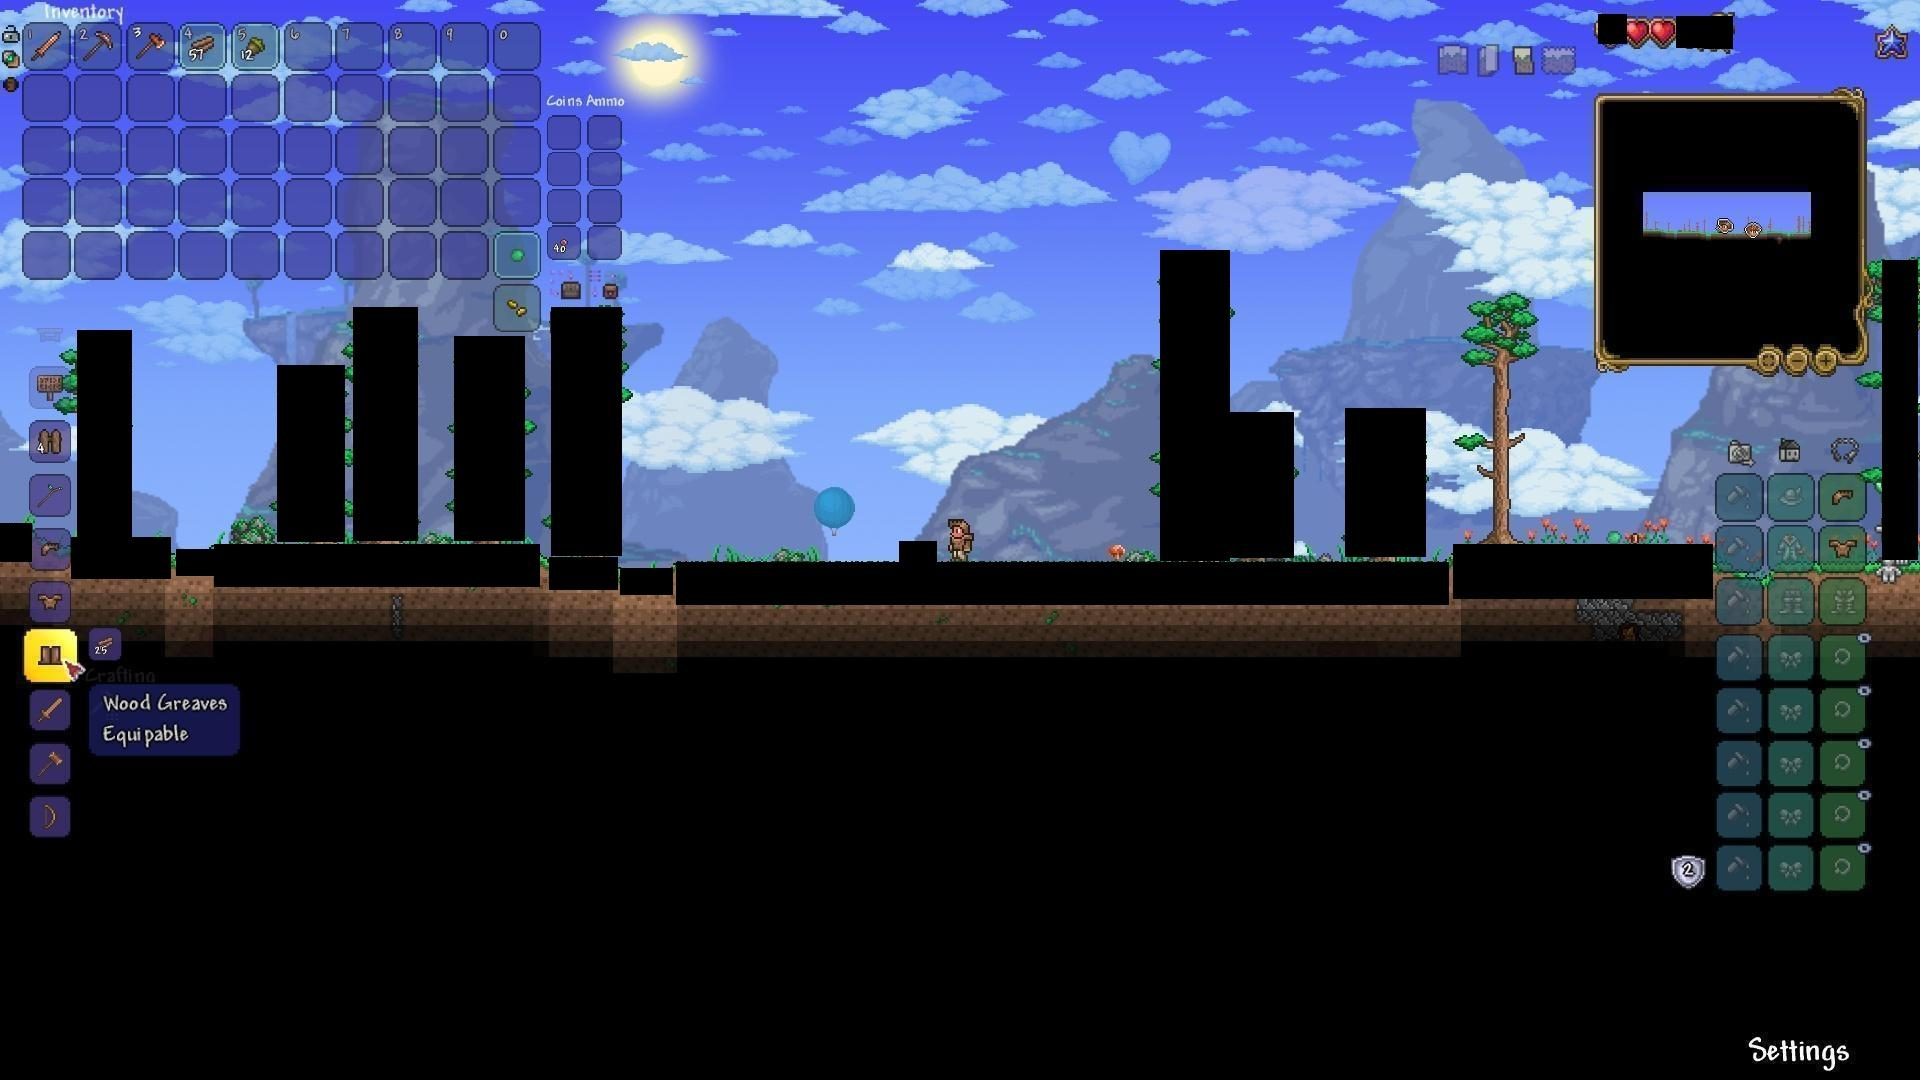breastplate: (36, 592, 66, 613), (1829, 537, 1859, 558)
heart: (1648, 17, 1676, 47), (1625, 17, 1651, 47)
helmet: (36, 535, 66, 564), (1826, 484, 1858, 512)
legs: (37, 642, 63, 671)
tree: (1469, 291, 1531, 541)
wood: (185, 29, 216, 59), (90, 632, 123, 661)
